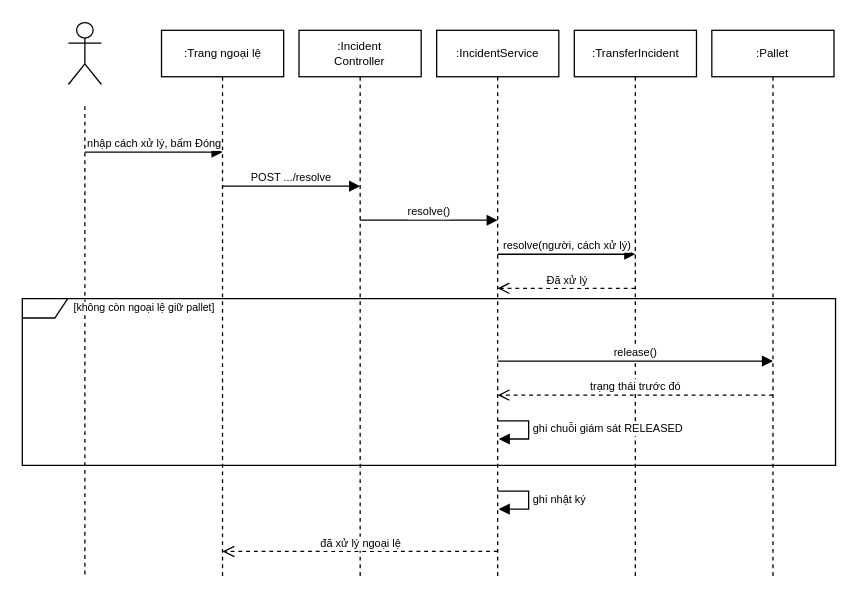
This 859x601 diagram has some shape labels left out. The shapes that lost their labels are listed below. From the top down, each one's box as (x1, y1, x2, y2) in pixels, then its label:
(67, 21, 101, 84): Quản lý kho
(21, 297, 836, 465): opt
